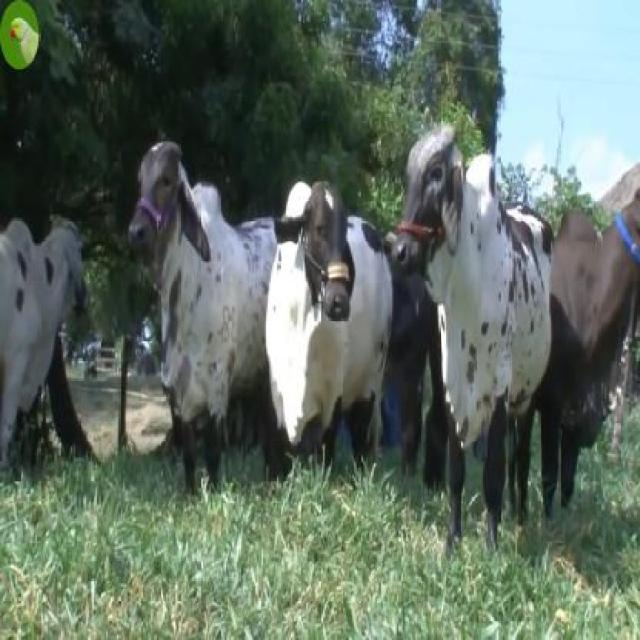Cow: (394, 116, 552, 550), (129, 139, 274, 486), (264, 180, 394, 500)
